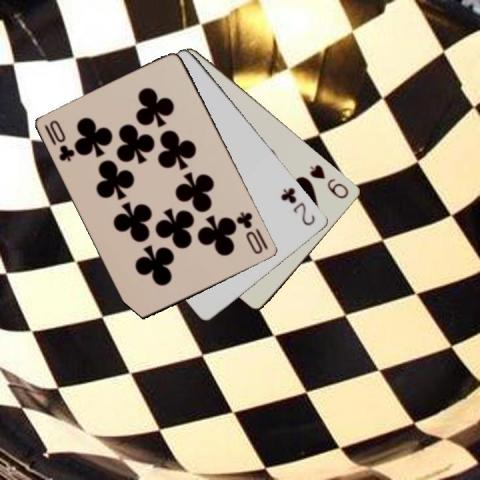10c: (234, 209, 270, 256), (41, 117, 77, 163)
2c: (278, 184, 317, 227)
9s: (306, 161, 350, 201)
